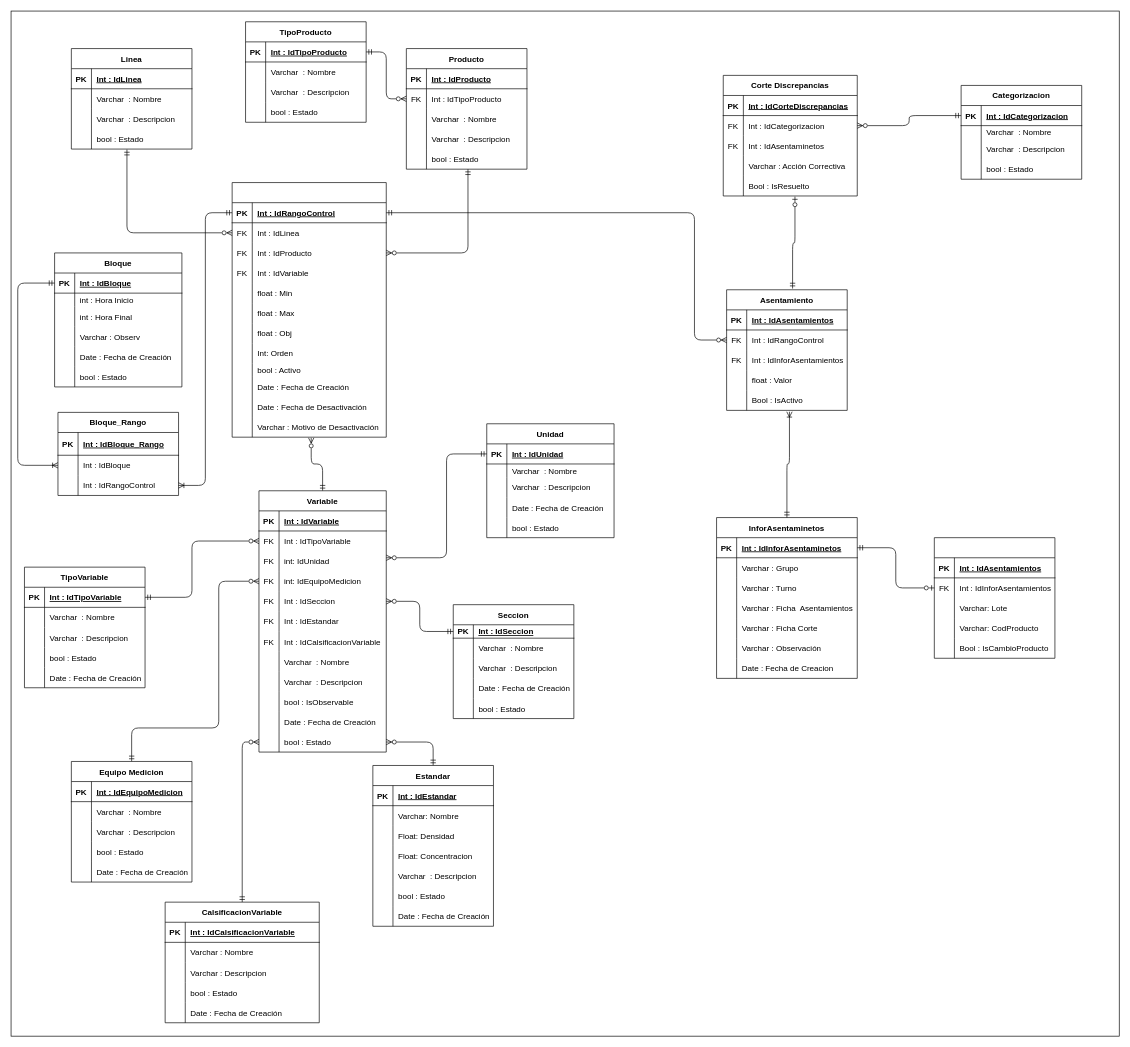
The diagram is 1130 pixels wide and 1047 high, and some of its shapes have lost their labels. The shapes that lost their labels are listed below. From the top down, each one's box as (x1, y1, x2, y2) in pixels, then its label:
(231, 182, 386, 437): Rango de Control
(934, 537, 1055, 658): InfoCalidad
